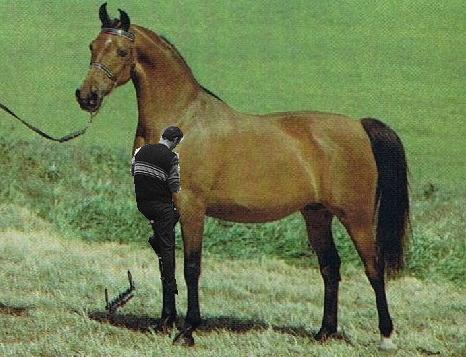tampered: (131, 127, 184, 295)
